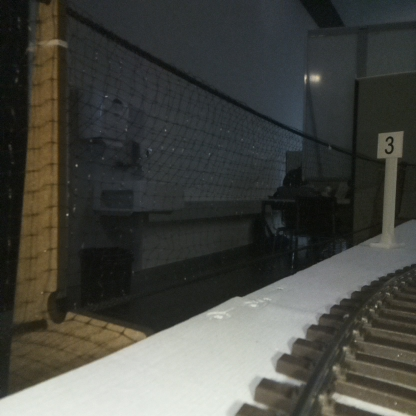white-stop-3: (377, 131, 402, 246)
